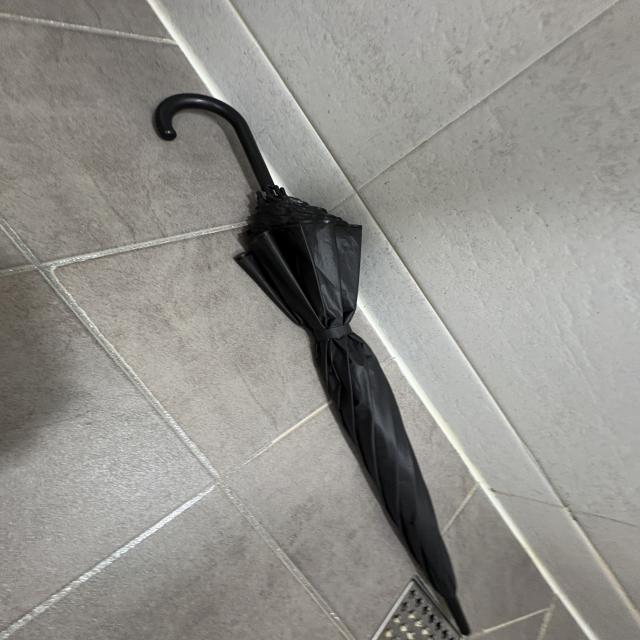umbrella: (152, 91, 474, 638)
